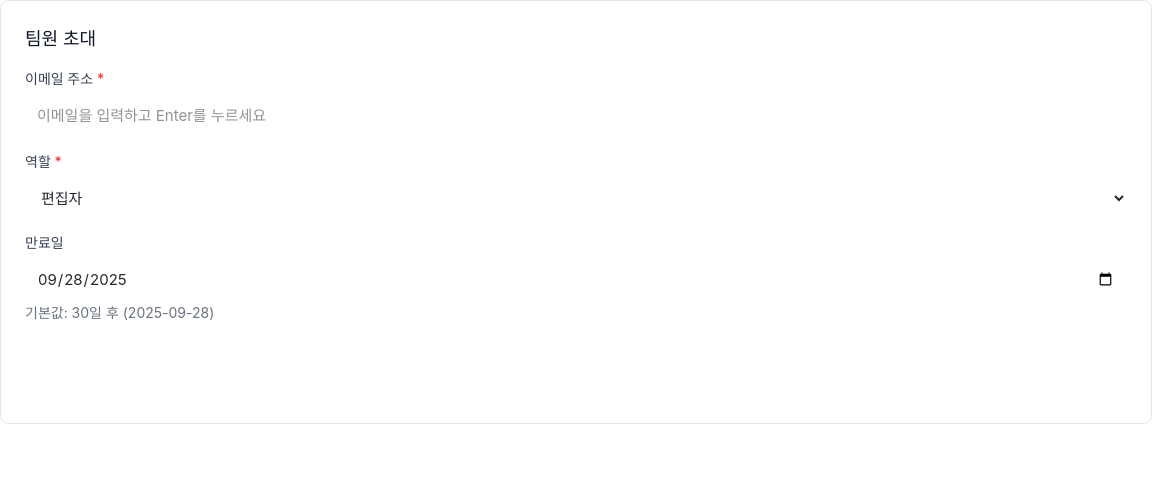
Test: TeamInviteForm › 여러 이메일을 칩 형태로 관리할 수 있어야 함
# 첫 번째 이메일 추가
In the field labelled "이메일 주소": (576, 116) [25,97,1127,136], type "test1@example.com"
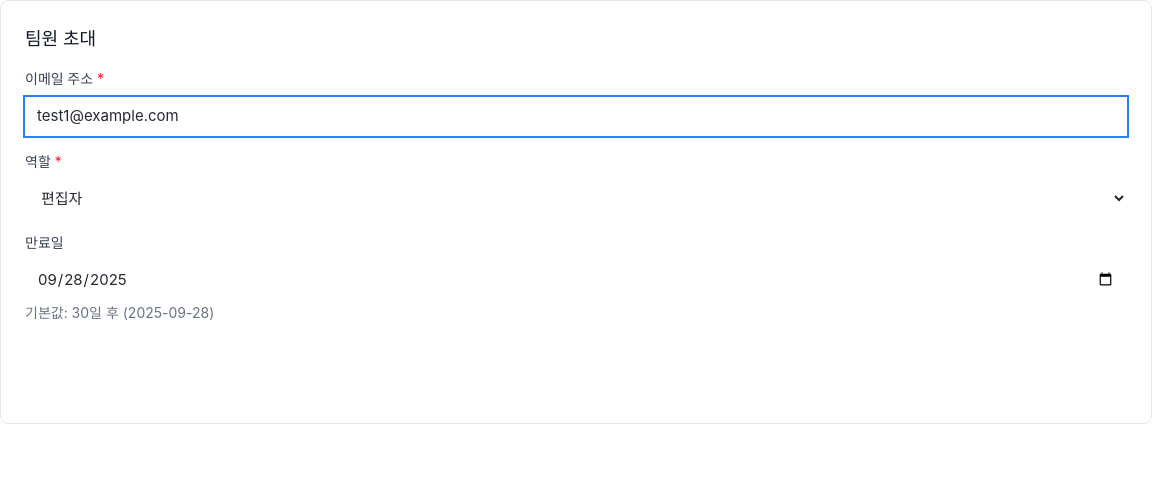
Press Enter
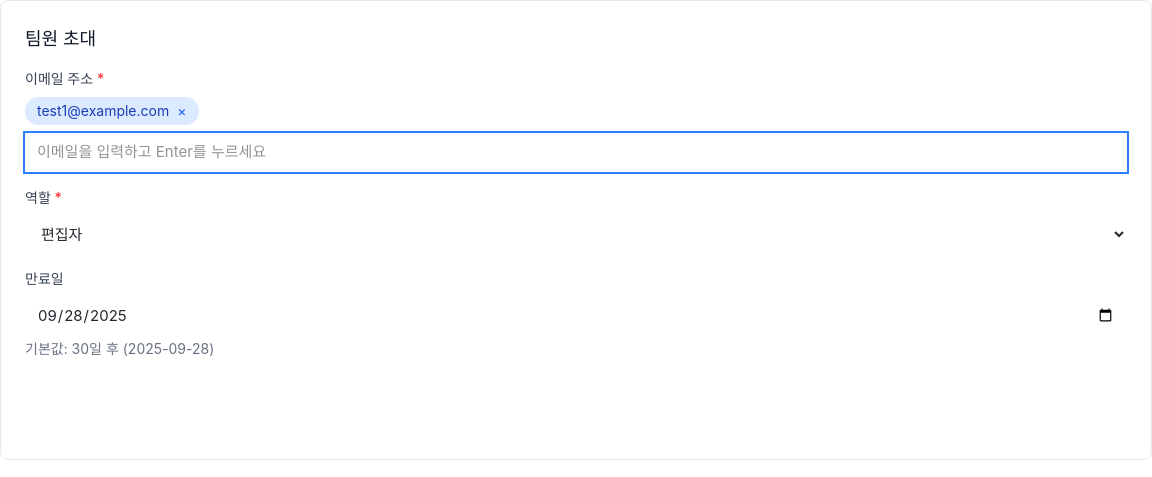
Expected: the text "test1@example.com" is shown, [37,102,169,119]
# 두 번째 이메일 추가
In the field labelled "이메일 주소 *": (576, 152) [25,133,1127,172], type "test2@example.com"
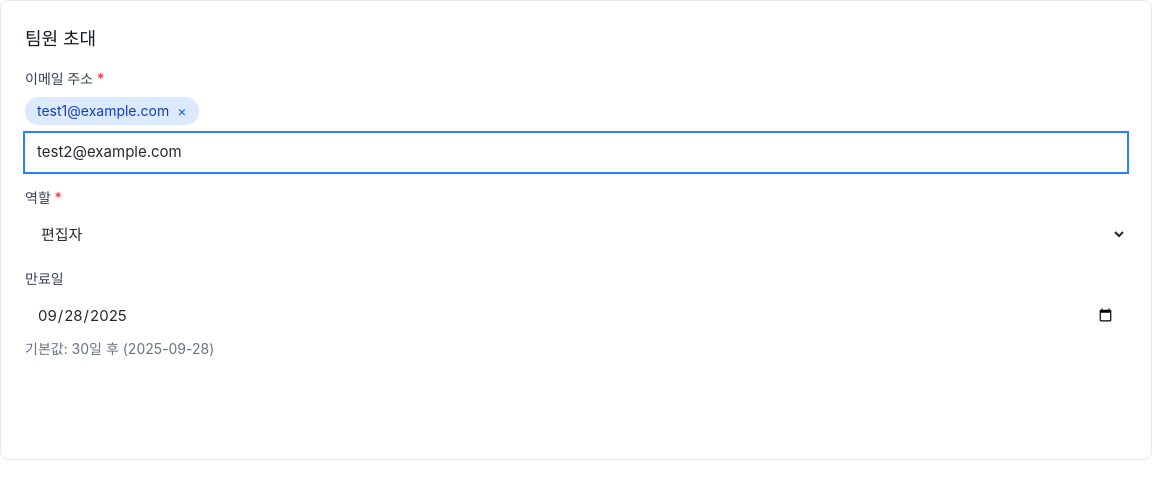
Press Enter
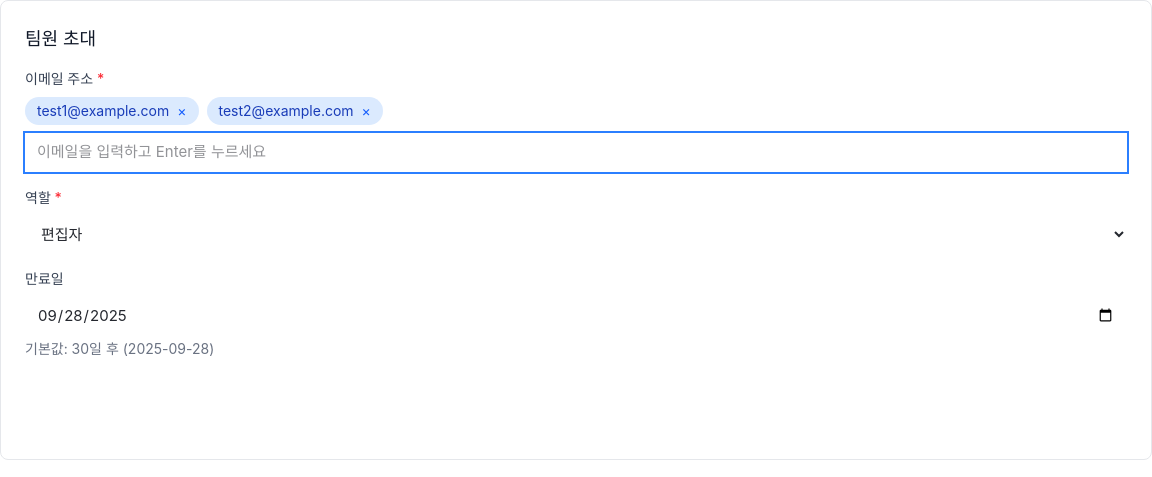
Expected: the text "test1@example.com" is shown, [37,102,169,119]
Expected: the text "test2@example.com" is shown, [218,102,354,119]
